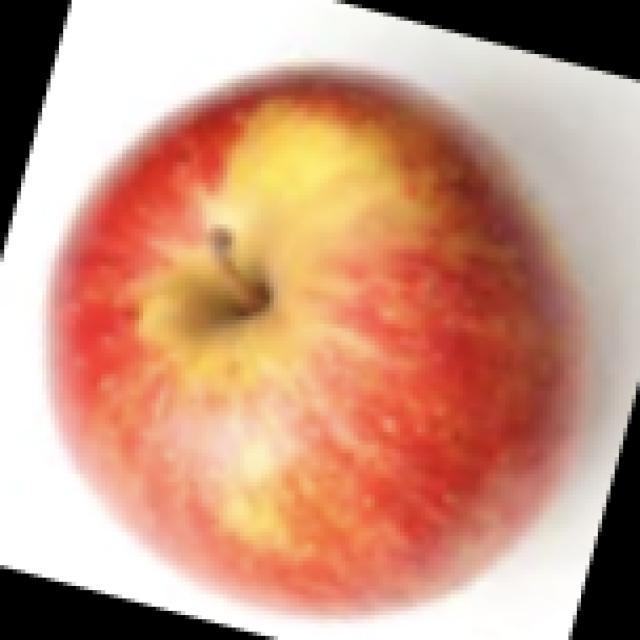Fresh Apple: (74, 66, 618, 640)
